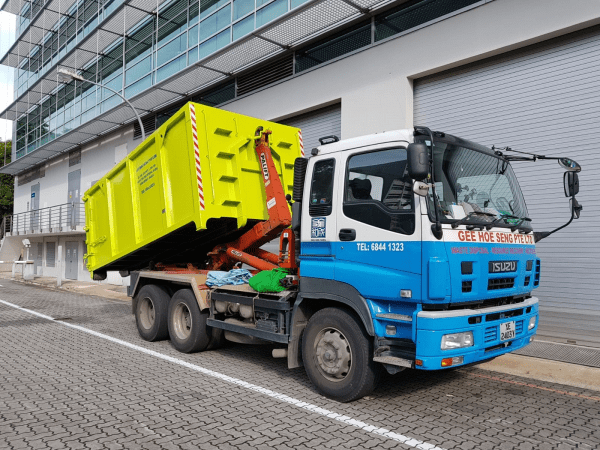vehicle: (84, 102, 552, 400)
